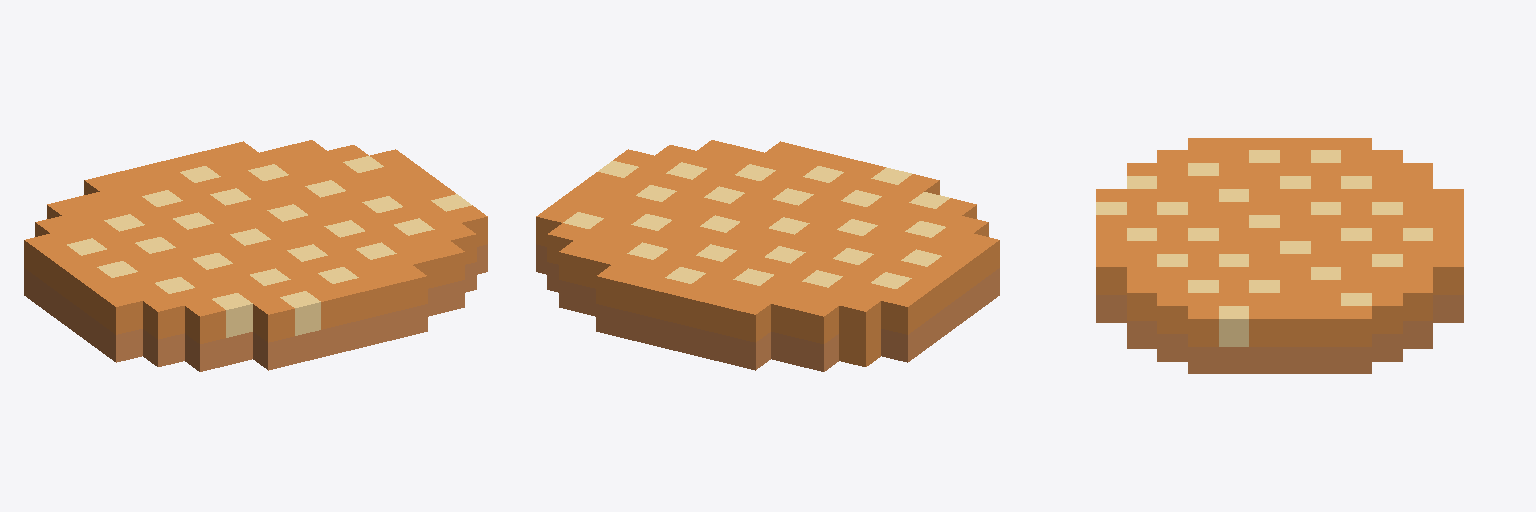
3 renders of one model, left to right at view 1: azimuth 30°, elevation 25°; view 2: azimuth 150°, elevation 25°; view 3: azimuth 270°, elevation 25°, orthographic.
Visible parts, largest first — view 1: object 1; view 2: object 1; view 3: object 1.
Boxes of the visible parts, box(x1,y1,x2,y2) form: object 1: box(24, 140, 487, 371); object 1: box(536, 140, 999, 371); object 1: box(1096, 138, 1463, 373).
Size of the model in its own units: 1.4 by 0.2 by 1.2.
1 materials, 1 textured.